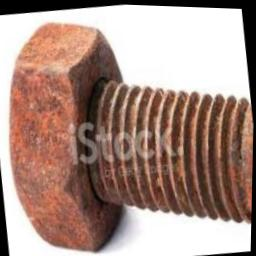Corroded-Bolt: (8, 21, 254, 252)
